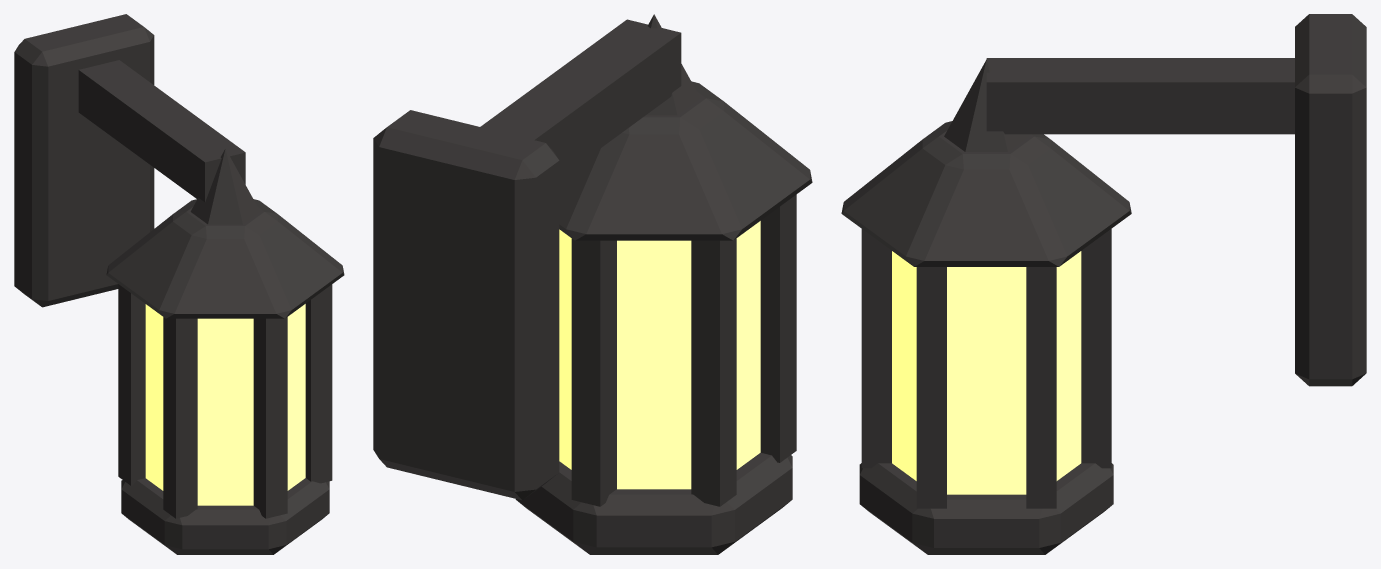
File: casino_wall_lamp.glb
The picture shows the model from 3 angles, left to right: view 1: azimuth 30°, elevation 25°; view 2: azimuth 150°, elevation 25°; view 3: azimuth 270°, elevation 25°; orthographic projection. The views are drawn at different scales.
Parts seen in each view (by area): view 1: casino_wall_lamp; view 2: casino_wall_lamp; view 3: casino_wall_lamp.
Part boxes in pixels (<box>): casino_wall_lamp: <box>14,14,344,554</box>; casino_wall_lamp: <box>373,14,812,554</box>; casino_wall_lamp: <box>841,14,1366,554</box>.
Size of the model in its own units: 0.1801 by 0.36 by 0.3663.
